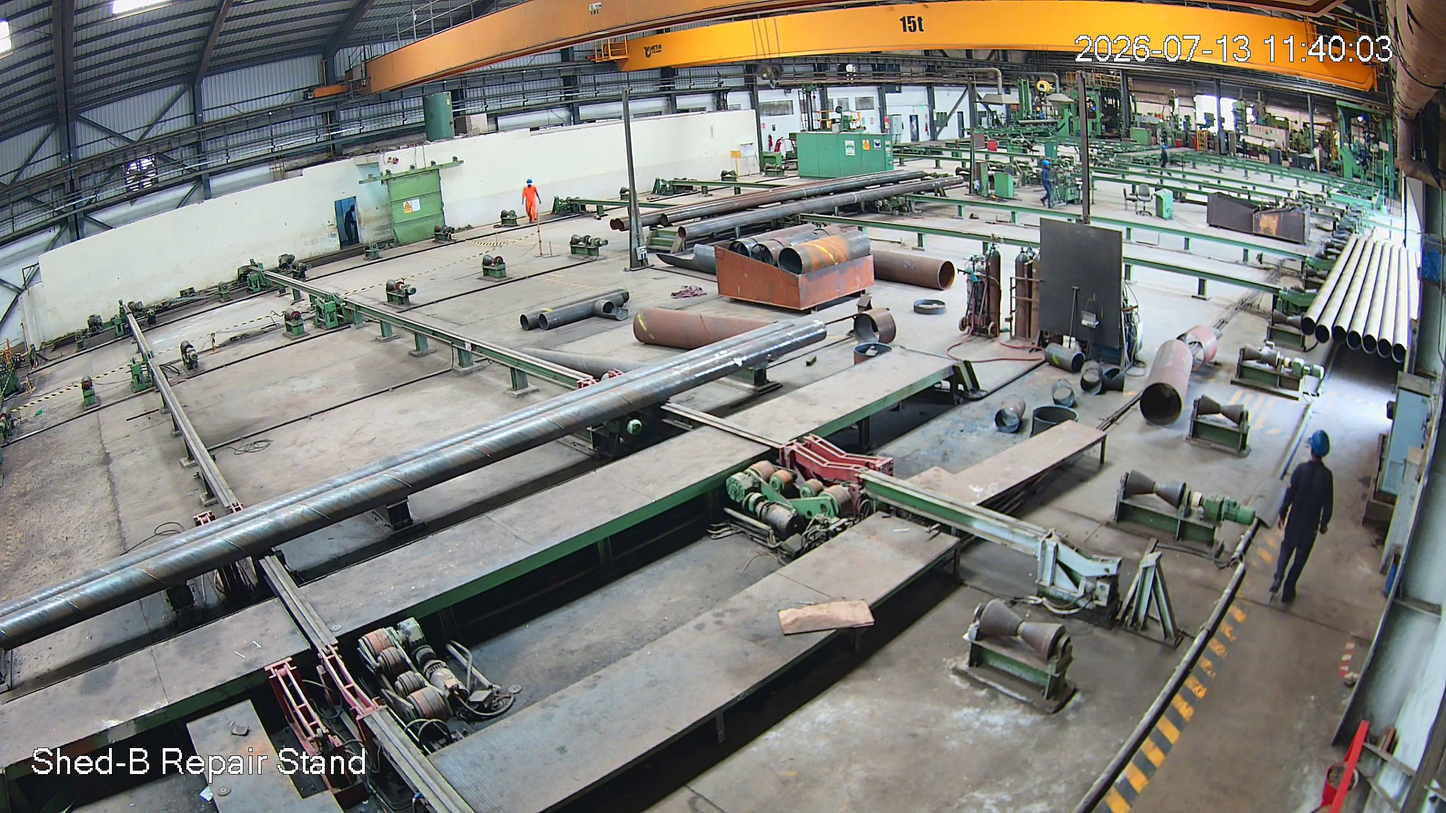Helmet: (1305, 429, 1335, 465)
Person: (1268, 432, 1339, 604)
